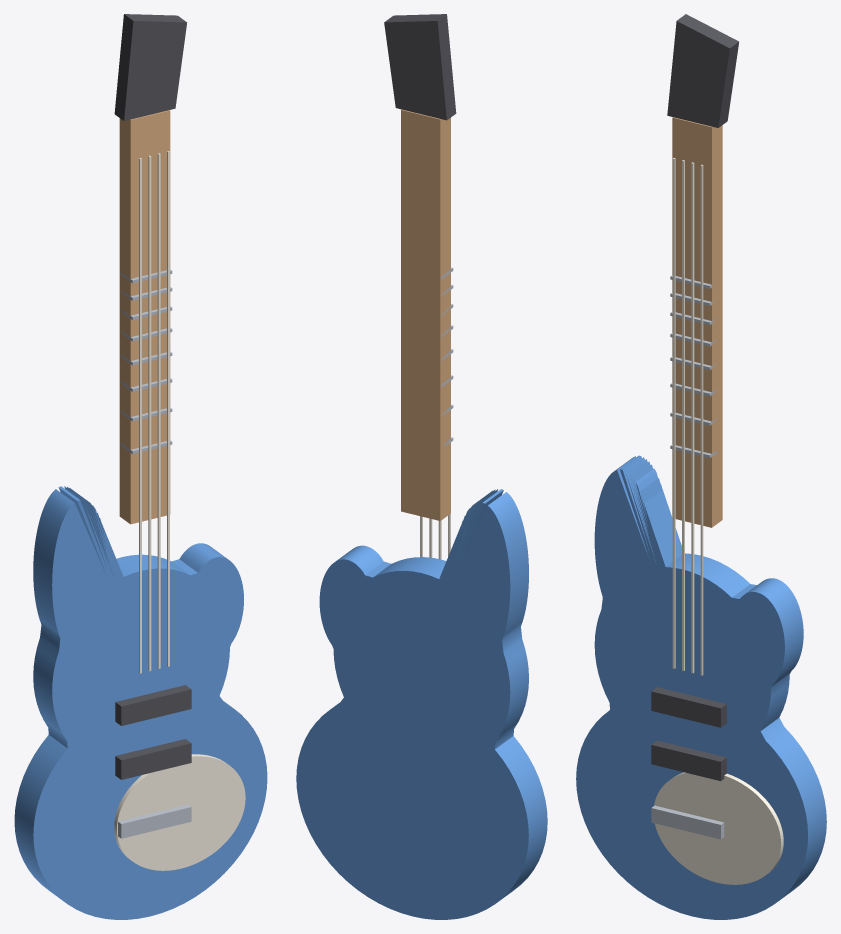
File: bass.glb
3 views of the same model, side by side, from view 1: azimuth 30°, elevation 25°; view 2: azimuth 150°, elevation 25°; view 3: azimuth 330°, elevation 25° (orthographic).
Visible parts, largest first — view 1: bass; view 2: bass; view 3: bass.
Part boxes in pixels (x1,y1,x2,y2): bass: [14, 14, 267, 919]; bass: [296, 14, 547, 919]; bass: [576, 14, 826, 919].
Bounding box in the file's own units: 1 × 3.67 × 0.185.
